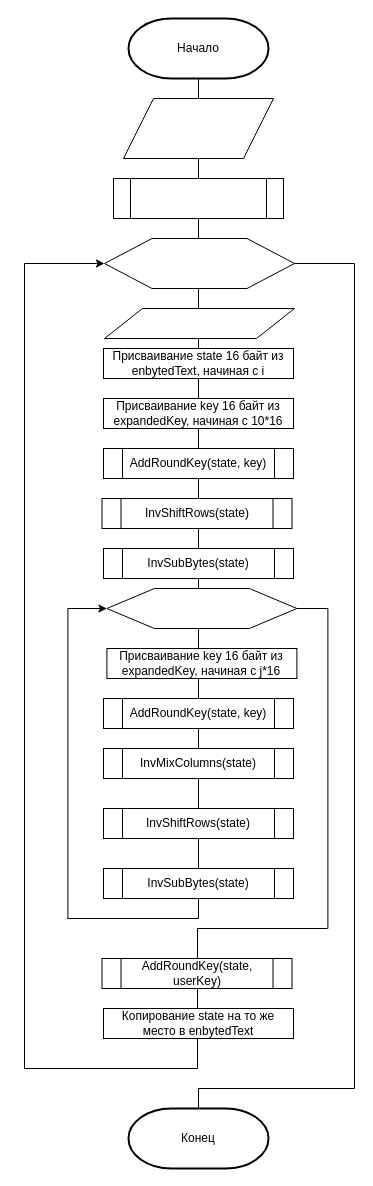
This 373x1186 diagram has some shape labels left out. The shapes that lost their labels are listed below. From the top down, each one's box as (x1, y1, x2, y2) in pixels, then its label:
(122, 98, 274, 158): enbytedText= =array[text.Length]
(112, 178, 284, 218): enbytedText= =FromTextToBytes(text)
(104, 238, 294, 288): Проход по массиву enbytedText с шагом i=16
(104, 308, 294, 338): state=array[16]; key=array[16]
(106, 588, 297, 628): Цикл j от 10 до 1 (нестрого)
